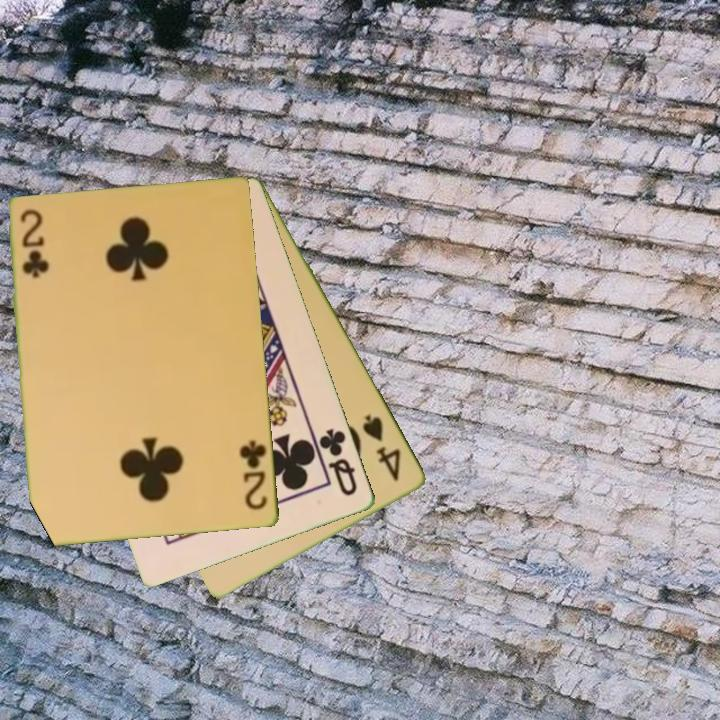2c: (237, 436, 271, 513), (18, 206, 47, 281)
4s: (359, 411, 405, 484)
Qc: (316, 425, 361, 499)
